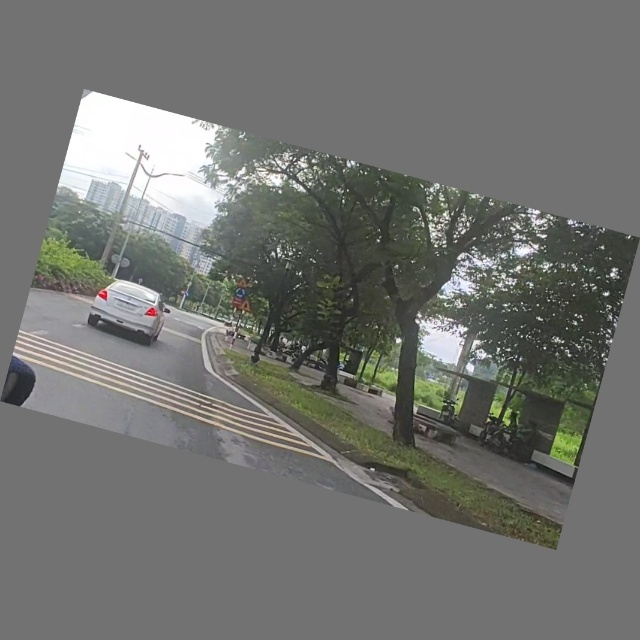P.102: (179, 289, 186, 296)
R.302a: (184, 291, 191, 299)
R.303: (233, 287, 248, 300)
W.207: (238, 299, 256, 315)
W.224: (236, 277, 250, 290)
